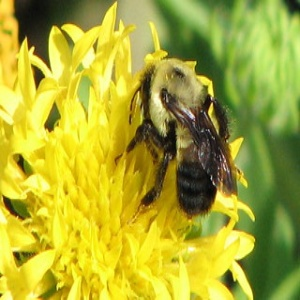bee: (142, 53, 232, 235)
